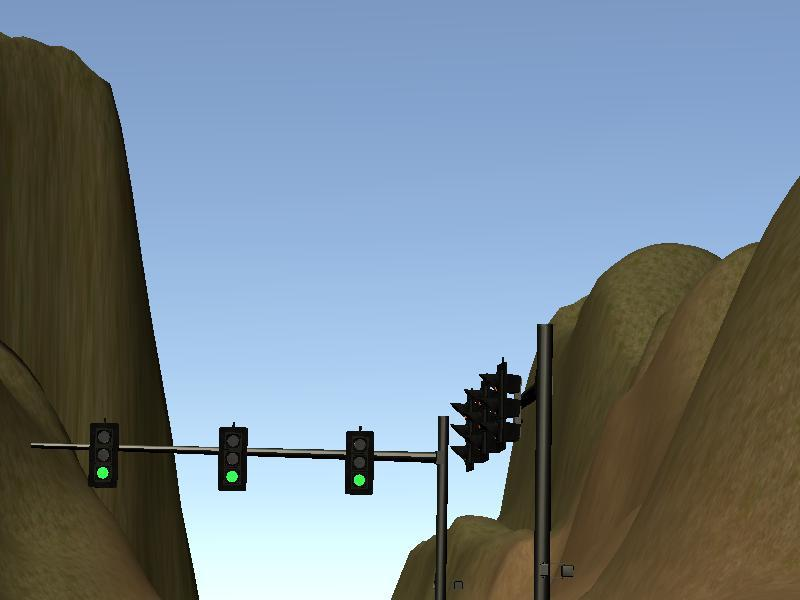Green: (217, 426, 248, 492), (90, 421, 120, 487), (345, 430, 374, 497)
